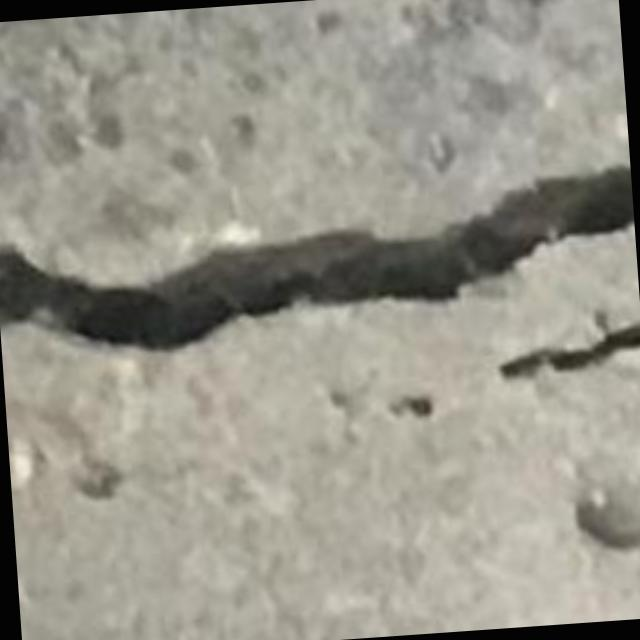crack: (0, 166, 633, 351)
